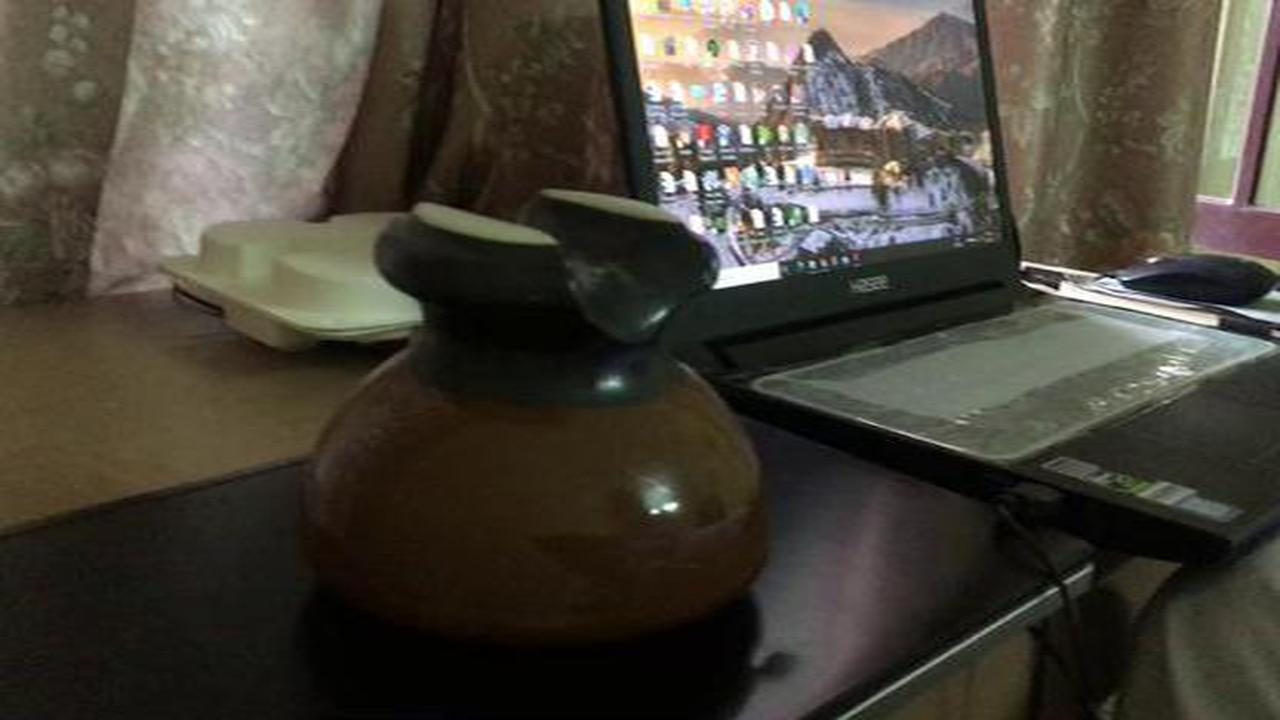insulator_pin: (284, 175, 797, 653)
